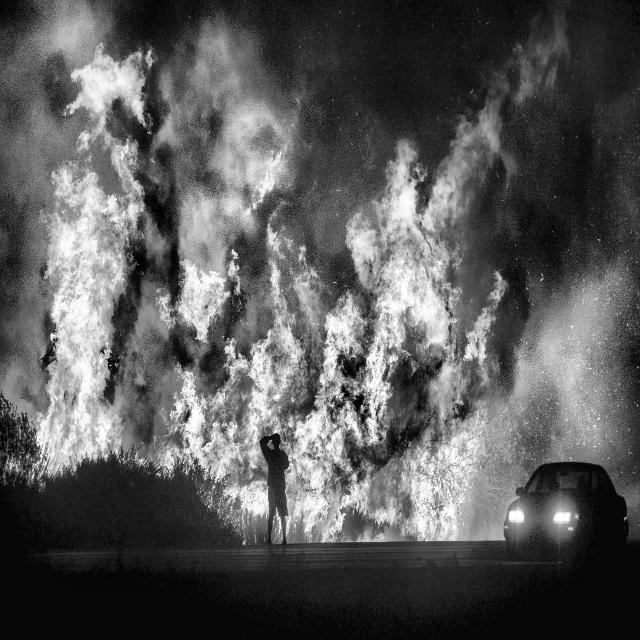fire: (246, 69, 574, 566), (32, 45, 230, 528)
